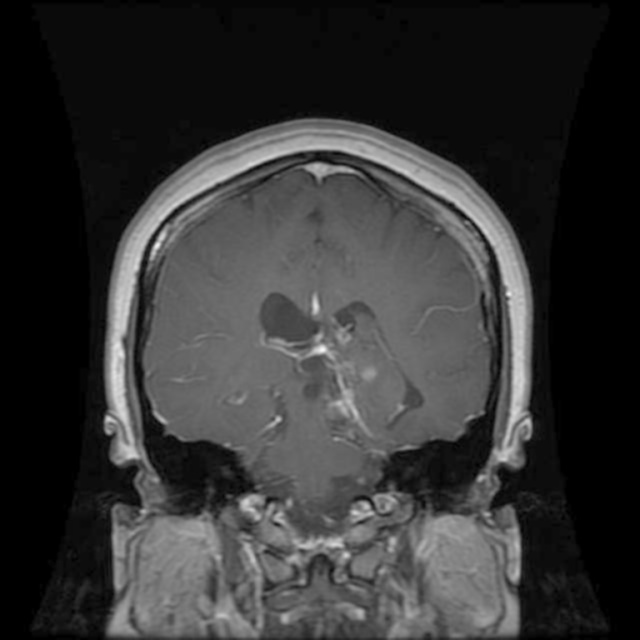pituitary tumor: (298, 345, 362, 424)
